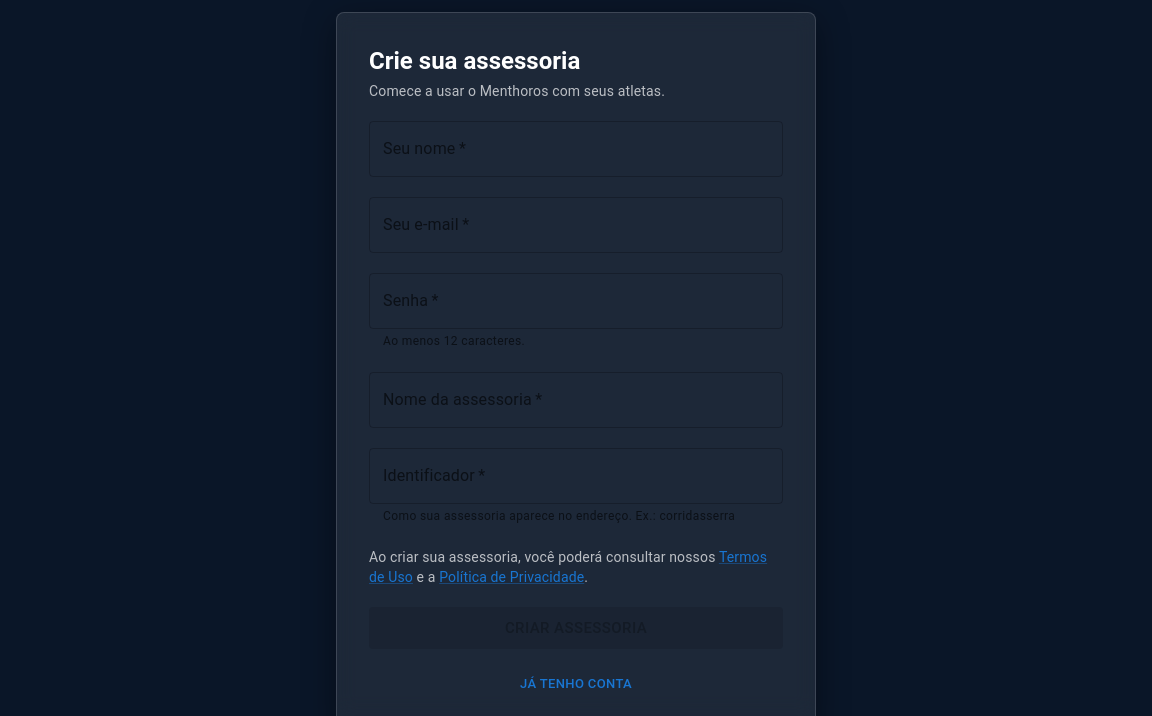
Scenario: CadastroPage › o retry após falha REUSA a mesma chave — chave nova por requisição criaria duas assessorias
Type "Maria Treinadora" into the field labelled "Seu nome *".
click(576, 149); type("Maria Treinadora")  # box [369,121,783,177]
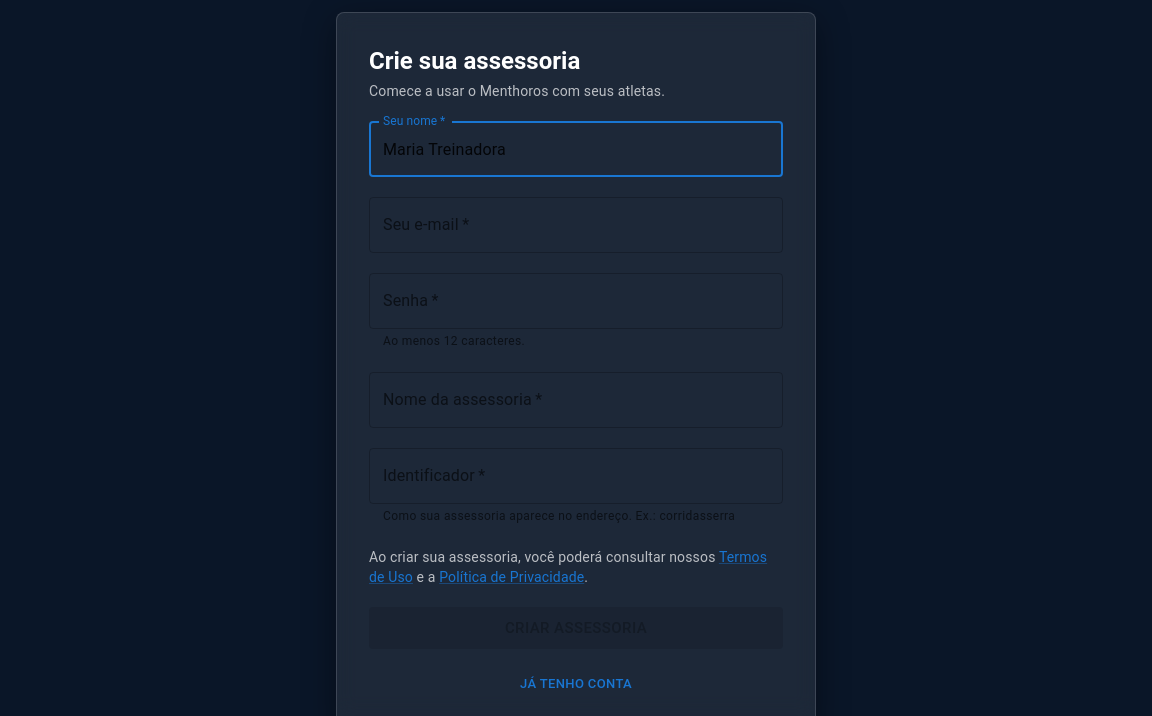
Type "maria@exemplo.com" into the field labelled "Seu e-mail *".
click(576, 225); type("maria@exemplo.com")  # box [369,197,783,253]
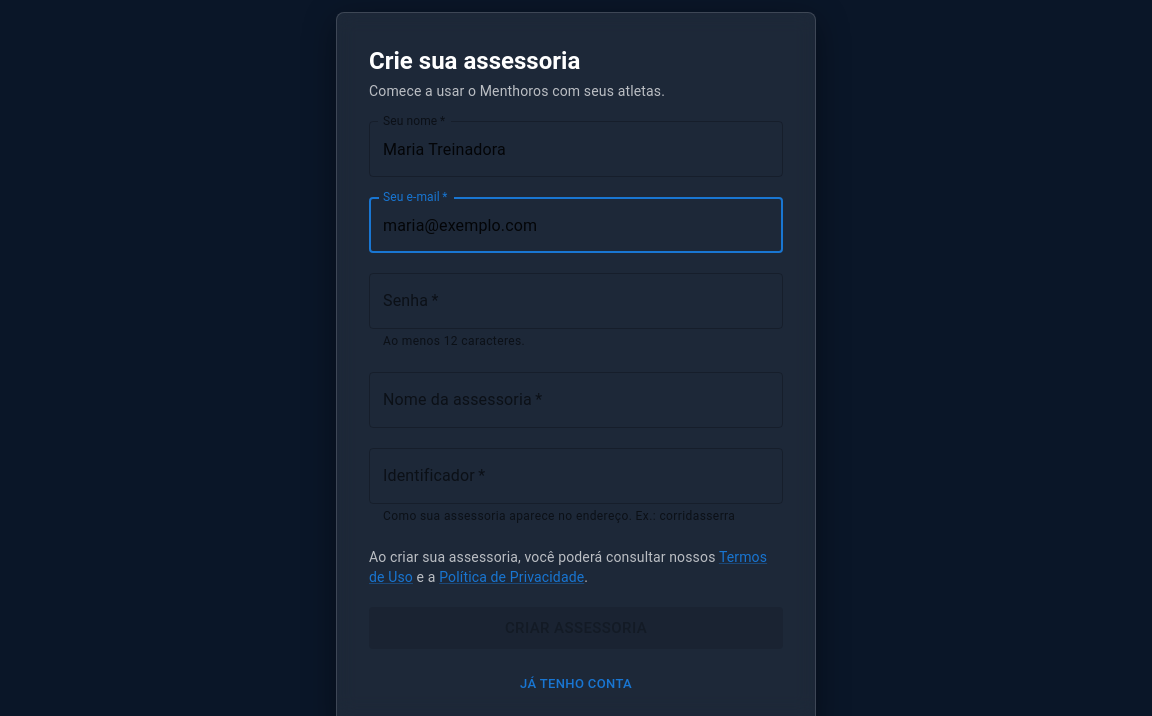
Type "senha-forte-o-suficiente" into the password field labelled "Senha *".
click(576, 301); type("senha-forte-o-suficiente")  # box [369,273,783,329]
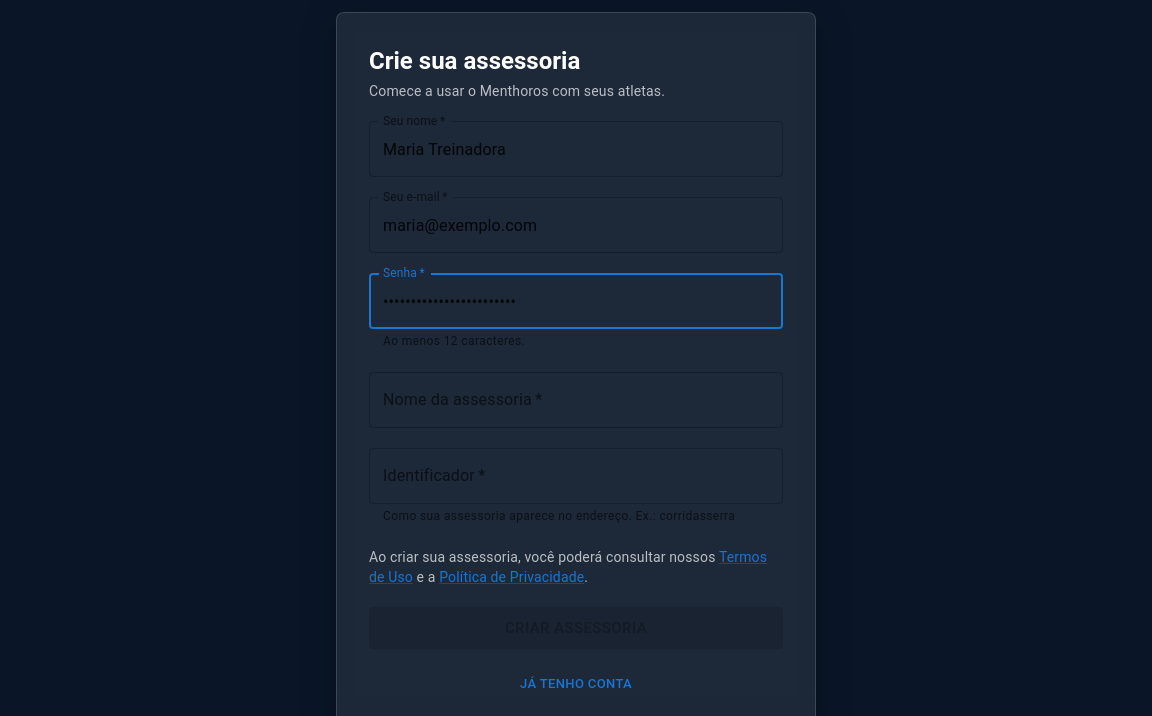
Type "Corrida na Serra" into the field labelled "Nome da assessoria *".
click(576, 400); type("Corrida na Serra")  # box [369,372,783,428]
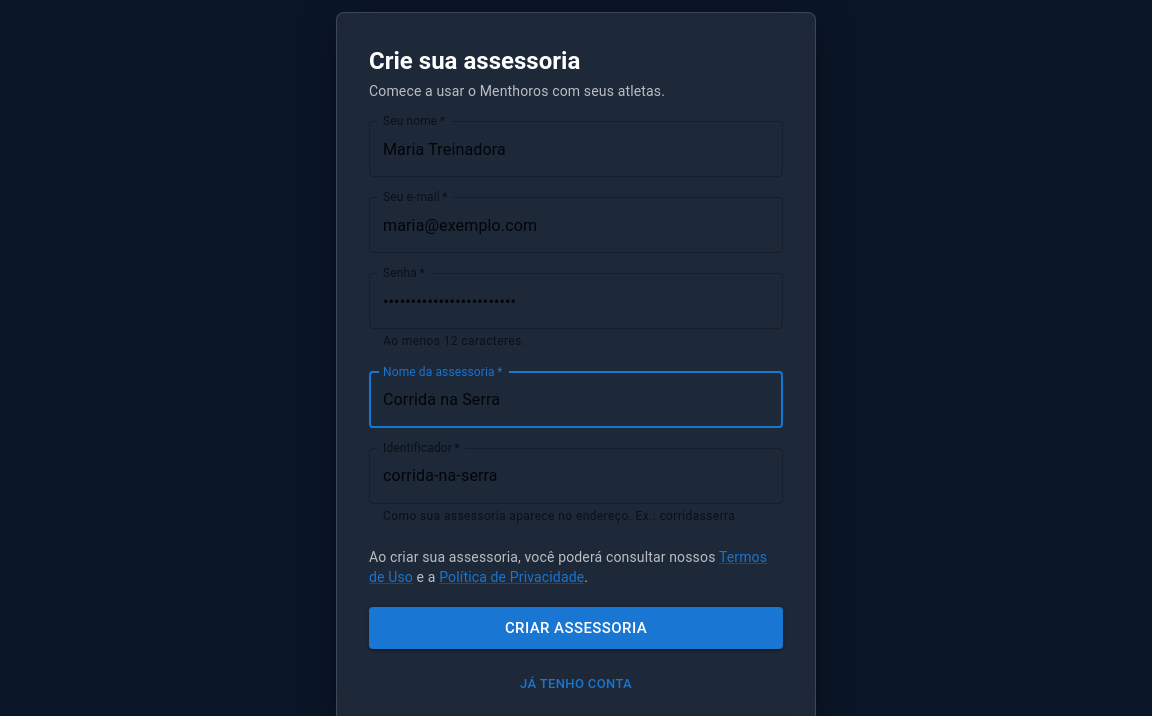
Click the button "Criar assessoria".
click(576, 628)  # box [369,607,783,649]
(page scrolled)
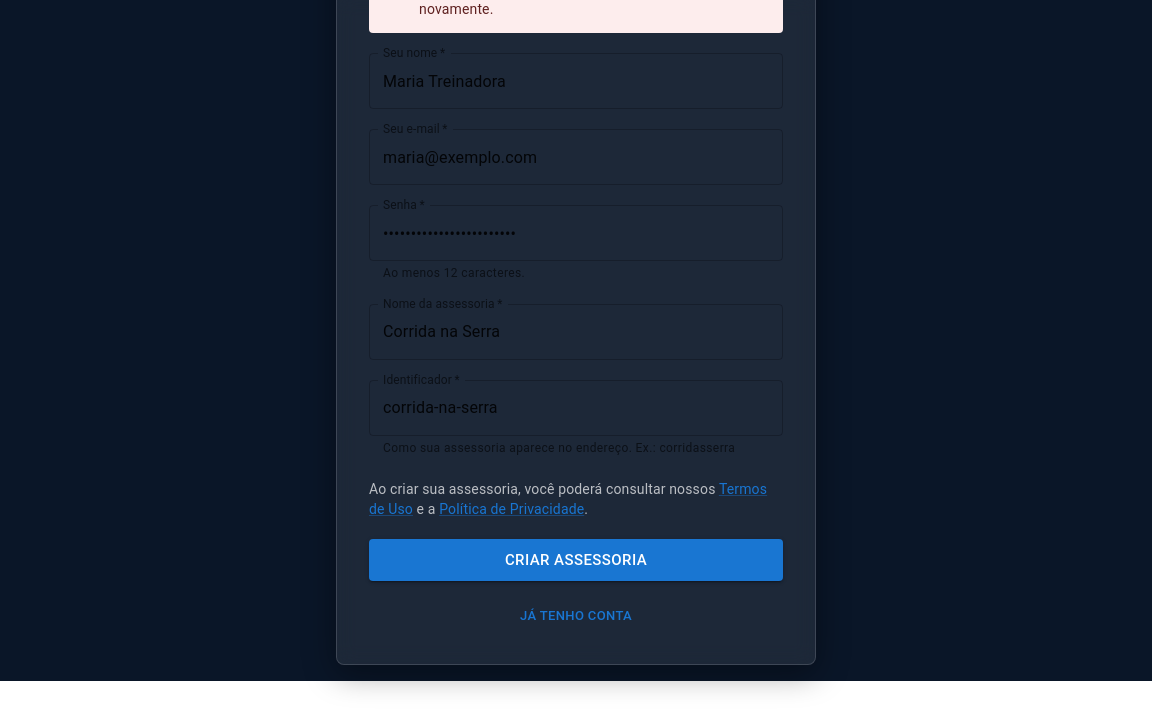
Click the button "Criar assessoria".
click(576, 560)  # box [369,539,783,581]
(page scrolled)
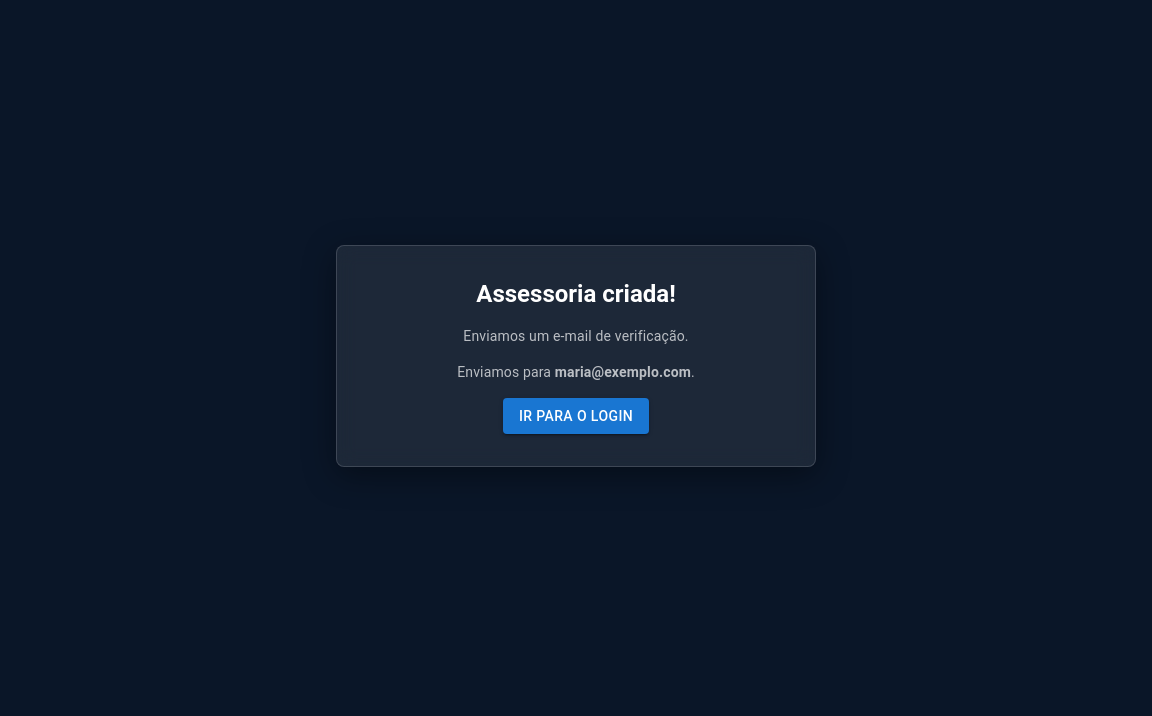
expect the heading "Assessoria criada!" is shown: met, box [476,278,676,310]
